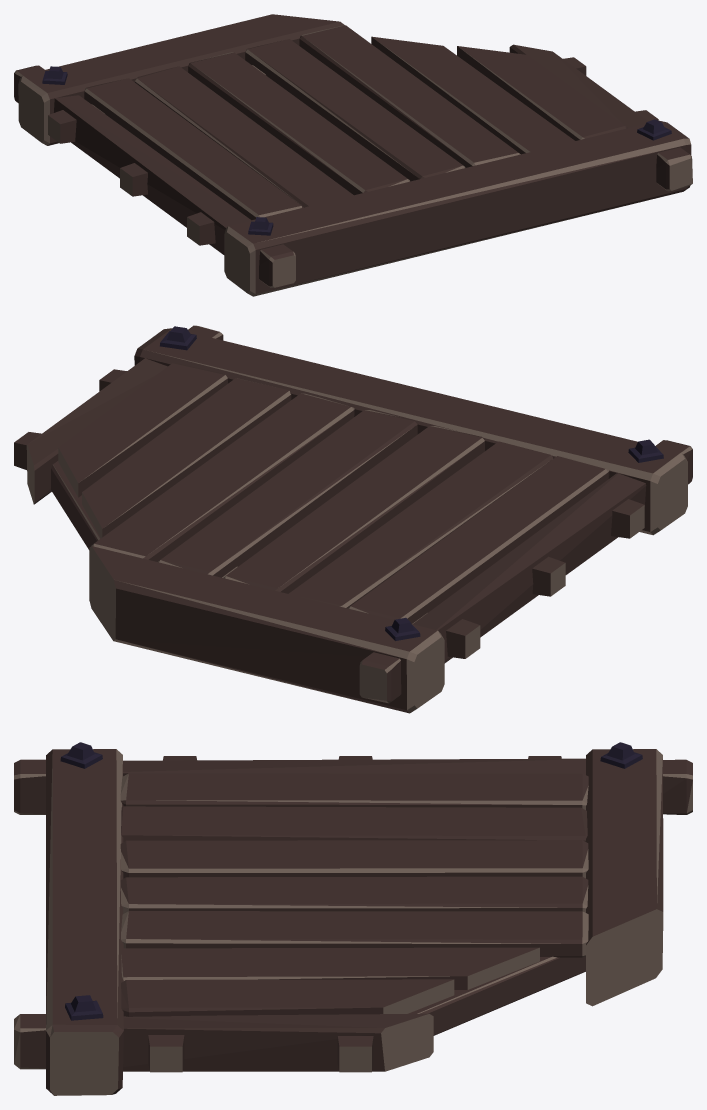
File: MCastle_HvyWoodFlr_02.FBX
3 views of the same model, one above another, from view 1: azimuth 30°, elevation 25°; view 2: azimuth 150°, elevation 25°; view 3: azimuth 270°, elevation 25° (orthographic). The views are drawn at different scales.
Visible parts, largest first — view 1: MCastle_HvyWoodFlr_02_LOD0; view 2: MCastle_HvyWoodFlr_02_LOD0; view 3: MCastle_HvyWoodFlr_02_LOD0.
Part boxes in pixels (x1=…): MCastle_HvyWoodFlr_02_LOD0: x1=14, y1=14, x2=692, y2=296; MCastle_HvyWoodFlr_02_LOD0: x1=14, y1=325, x2=692, y2=713; MCastle_HvyWoodFlr_02_LOD0: x1=14, y1=742, x2=692, y2=1095.
Size of what is drawn, in the model's own units: 161 by 21.91 by 159.
